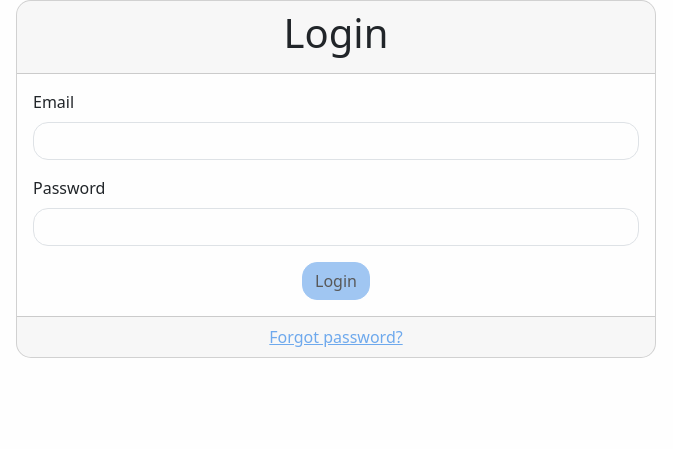
it: Login Page › when user sets same value for inputs › when user submits form › when network failure occurs › when user submits again › hides error when api request in progress
Type "user1@mail.com" into the field labelled "Email" at [336, 141], box [33,122,639,160]
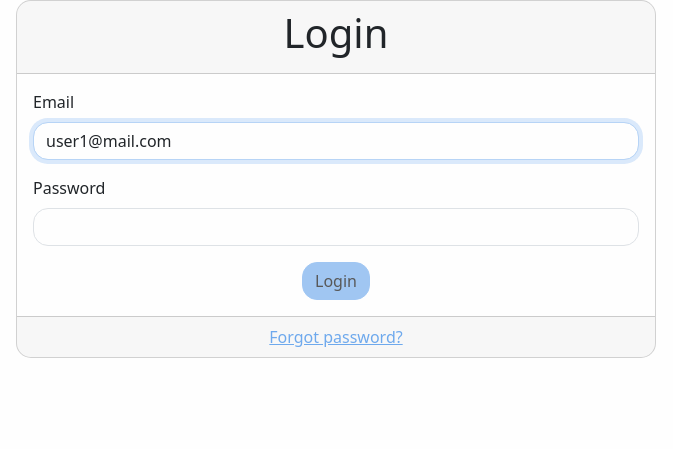
Type "P4ssword" into the password field labelled "Password" at [336, 227], box [33,208,639,246]
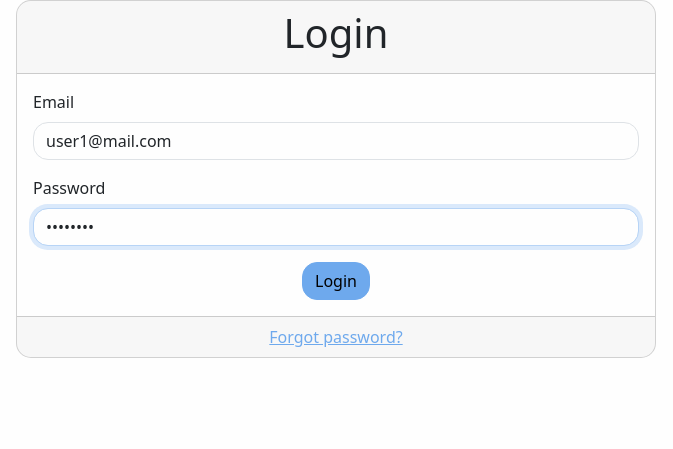
Click the button "Login" at [336, 281], box [302,262,370,300]
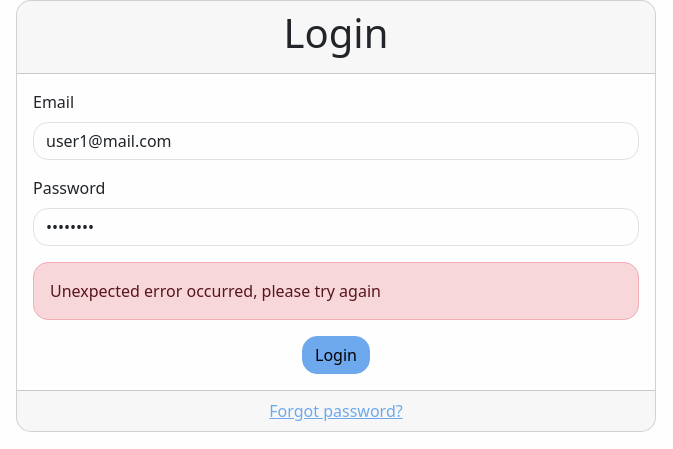
Expected: the text "Unexpected error occurred, please try again" is shown, [33,262,639,320]
Click the button "Login" at [336, 355], box [302,336,370,374]
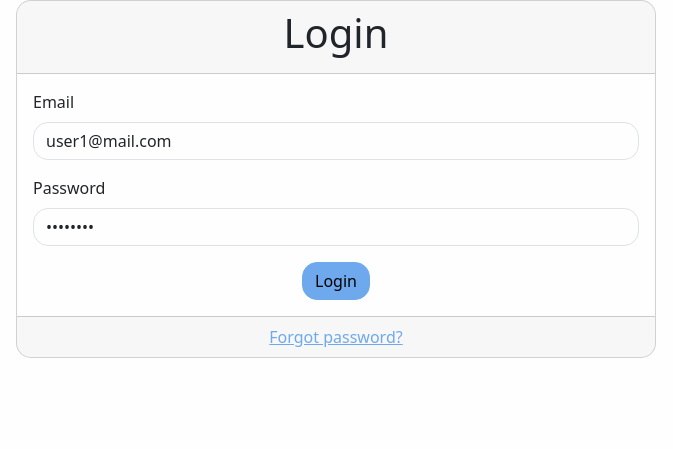
Expected: the text "Unexpected error occurred, please try again" is gone
